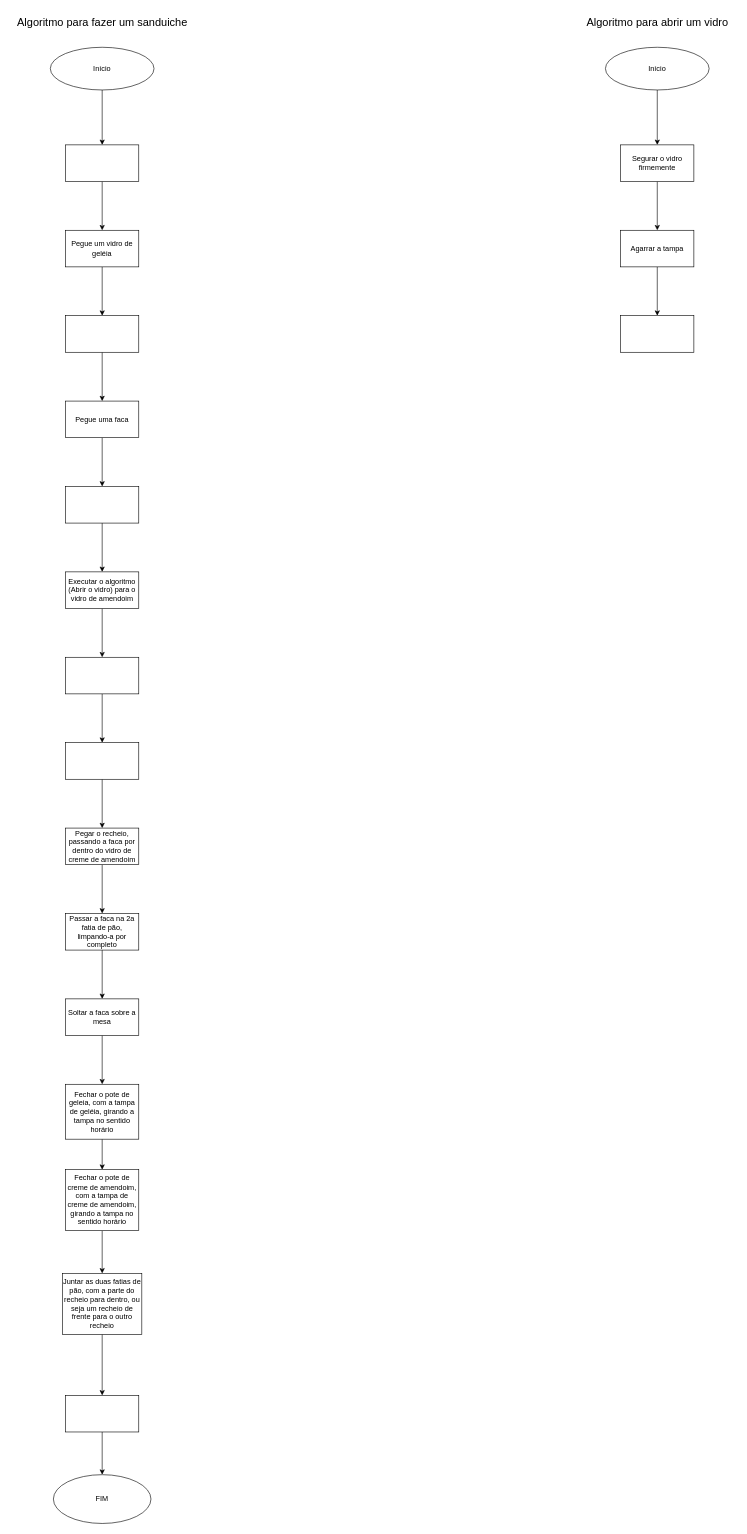
This 747x1534 diagram has some shape labels left out. Here are the shapes that lost their labels. From the top down, the box of each, then its label:
(65, 144, 139, 181): Pegue duas fatias de pão
(65, 315, 139, 352): Pegue um vidro de creme de amendoim
(620, 315, 694, 352): Girar a tampa para a esquerda
(65, 486, 139, 523): Executar o algoritmo (Abrir o vidro) para o vidro de geléia
(65, 657, 139, 694): Pegar o recheio, passando a faca por dentro do vidro de geléia
(65, 742, 139, 779): Passar a faca na 1a fatia de pão, limpando-a por completo
(65, 1395, 139, 1432): Dar uma boa mordida no pão
